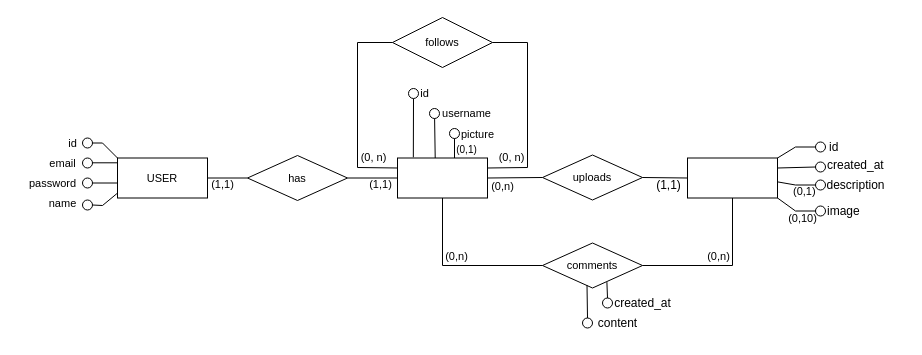
The diagram is 922 pixels wide and 355 high, and some of its shapes have lost their labels. Here are the shapes that lost their labels. From the top down, the centre of each, then its label:
point (442, 177): PROFILE
point (732, 177): POST
